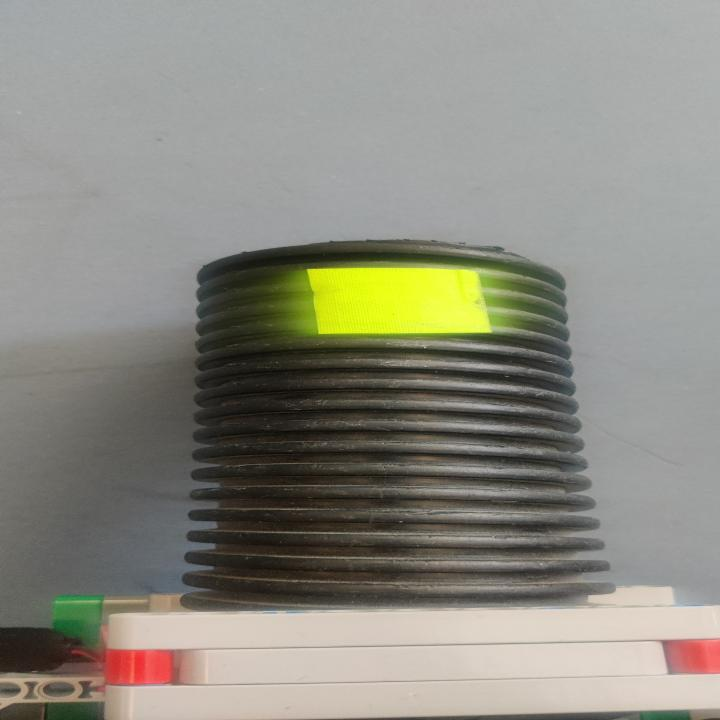robot-front: (207, 243, 580, 574)
